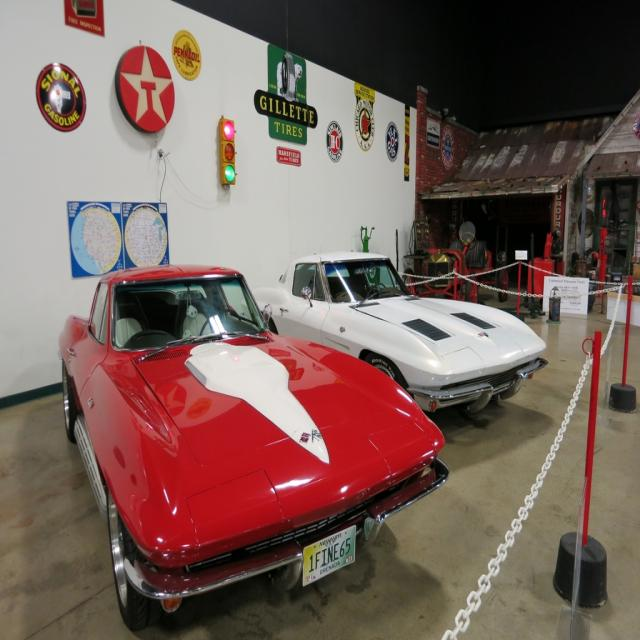car: (56, 262, 448, 630)
